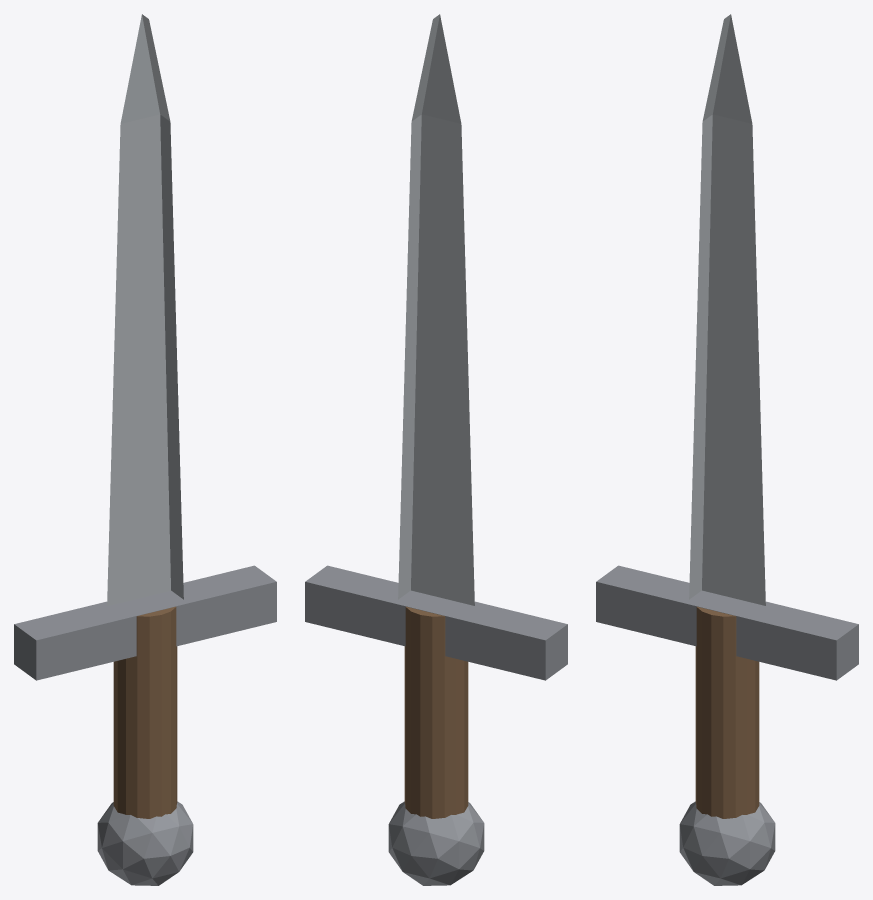
The model's file is longsword.glb.
3 renders of one model, left to right at view 1: azimuth 30°, elevation 25°; view 2: azimuth 150°, elevation 25°; view 3: azimuth 330°, elevation 25°, orthographic.
Visible parts, largest first — view 1: sword_0_0, sword_0_1, sword_0_2, sword_0_3; view 2: sword_0_0, sword_0_1, sword_0_2, sword_0_3; view 3: sword_0_0, sword_0_1, sword_0_2, sword_0_3.
Boxes of the visible parts, <box> form: sword_0_0: <box>107,14,183,605</box>; sword_0_1: <box>14,565,276,680</box>; sword_0_2: <box>113,606,177,818</box>; sword_0_3: <box>97,801,193,885</box>; sword_0_0: <box>398,14,474,605</box>; sword_0_1: <box>305,565,567,680</box>; sword_0_2: <box>404,606,468,818</box>; sword_0_3: <box>388,801,484,885</box>; sword_0_0: <box>689,14,765,605</box>; sword_0_1: <box>596,565,858,680</box>; sword_0_2: <box>695,606,759,818</box>; sword_0_3: <box>679,801,775,885</box>.
Size of the model in its own units: 1.13 by 3.88 by 0.4078.
